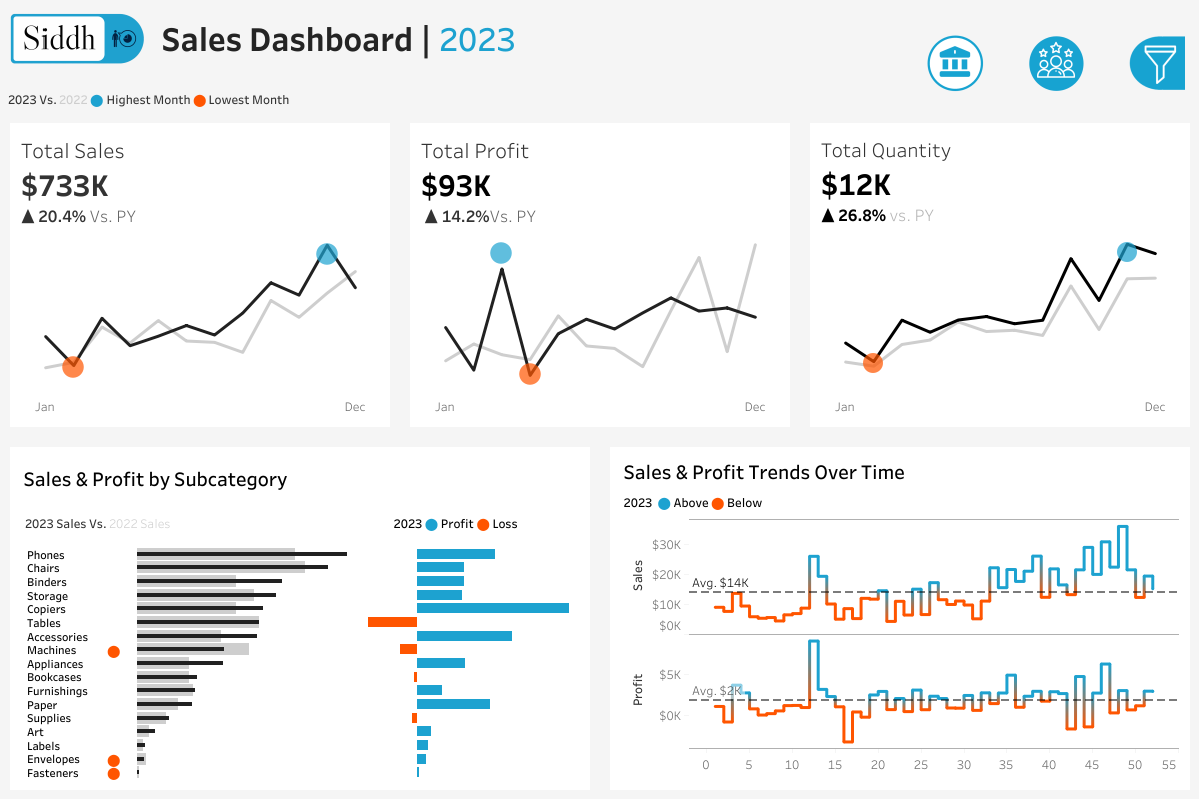

Layout of this report page (visuals, bound fields, positions):
{"tool":"tableau","page":{"name":"Sales Dashboard","canvas":[1200,800],"ordinal":1},"visuals":[{"type":"image","param":"Image/final logo of my project.png","box":[0,0,155,75]},{"type":"text","box":[155,0,717,75]},{"type":"blank","box":[976,10,212,89]},{"type":"dashboard-object","box":[905,31,101,65]},{"type":"dashboard-object","box":[1006,31,101,65]},{"type":"worksheet","title":"Legends of KPI","mark":"Automatic","box":[0,75,1200,48]},{"type":"text","box":[976,99,212,47]},{"type":"worksheet","title":"Total Sales KPI","mark":"Automatic","rows":["Calculation_552253929092329472"],"cols":["Order Date"],"box":[0,123,400,314]},{"type":"worksheet","title":"Total Profit KPI ","mark":"Line","rows":["Calculation_1062005113290240000"],"cols":["Order Date"],"box":[400,123,400,314]},{"type":"worksheet","title":"Total Quantity","mark":"Automatic","rows":["Calculation_1062005114347032582"],"cols":["Order Date"],"box":[800,123,400,314]},{"type":"parameter","param":"[Parameters].[Parameter 1]","box":[976,146,212,60]},{"type":"text","box":[976,206,212,39]},{"type":"filter","title":"Total Sales KPI","param":"[federated.0em19x71oi4ypa1cmuwwi1ngmi3q].[none:Category:nk]","box":[976,245,212,70]},{"type":"filter","title":"Total Sales KPI","param":"[federated.0em19x71oi4ypa1cmuwwi1ngmi3q].[none:Sub-Category:nk]","box":[976,315,212,70]},{"type":"blank","box":[976,385,212,68]},{"type":"text","box":[976,453,212,39]},{"type":"text","box":[17,454,566,49]},{"type":"text","box":[617,454,566,34]},{"type":"text","box":[617,488,566,25]},{"type":"filter","title":"Total Sales KPI","param":"[federated.0em19x71oi4ypa1cmuwwi1ngmi3q].[none:Region:nk]","box":[976,492,212,70]},{"type":"worksheet","title":"Legends of Subcategory","mark":"Automatic","box":[17,503,370,40]},{"type":"text","box":[387,503,196,40]},{"type":"worksheet","title":"Weekly Trends","mark":"Automatic","rows":["Calculation_976436718639206405","Calculation_630785448237166597"],"cols":["Order Date"],"box":[617,513,566,270]},{"type":"worksheet","title":"SubCategory Comparasion","mark":"Bar","rows":["Sub-Category","Calculation_1062005114358984713"],"cols":["CY Sales (copy)_976436718640340998","Calculation_976436718639206405","Calculation_630785448237166597"],"box":[17,543,566,239.9]},{"type":"filter","title":"Total Sales KPI","param":"[federated.0em19x71oi4ypa1cmuwwi1ngmi3q].[none:State:nk]","box":[976,562,212,70]},{"type":"filter","title":"Total Sales KPI","param":"[federated.0em19x71oi4ypa1cmuwwi1ngmi3q].[none:City:nk]","box":[976,632,212,70]}]}

Visuals, with their boxes in screenshot pixels (x1, y1, x2, y2), scaled from the page's 1200x800 canvas onto the 1199x799 screenshot:
image: 0 0 155 75
text: 155 0 871 75
blank: 975 10 1187 99
dashboard-object: 904 31 1005 96
dashboard-object: 1005 31 1106 96
"Legends of KPI" worksheet: 0 75 1198 123
text: 975 99 1187 146
"Total Sales KPI" worksheet: 0 123 400 436
"Total Profit KPI " worksheet (Line marks): 400 123 799 436
"Total Quantity" worksheet: 799 123 1198 436
parameter: 975 146 1187 206
text: 975 206 1187 245
"Total Sales KPI" filter: 975 245 1187 315
"Total Sales KPI" filter: 975 315 1187 385
blank: 975 385 1187 452
text: 975 452 1187 491
text: 17 453 583 502
text: 616 453 1182 487
text: 616 487 1182 512
"Total Sales KPI" filter: 975 491 1187 561
"Legends of Subcategory" worksheet: 17 502 387 542
text: 387 502 583 542
"Weekly Trends" worksheet: 616 512 1182 782
"SubCategory Comparasion" worksheet (Bar marks): 17 542 583 782
"Total Sales KPI" filter: 975 561 1187 631
"Total Sales KPI" filter: 975 631 1187 701
